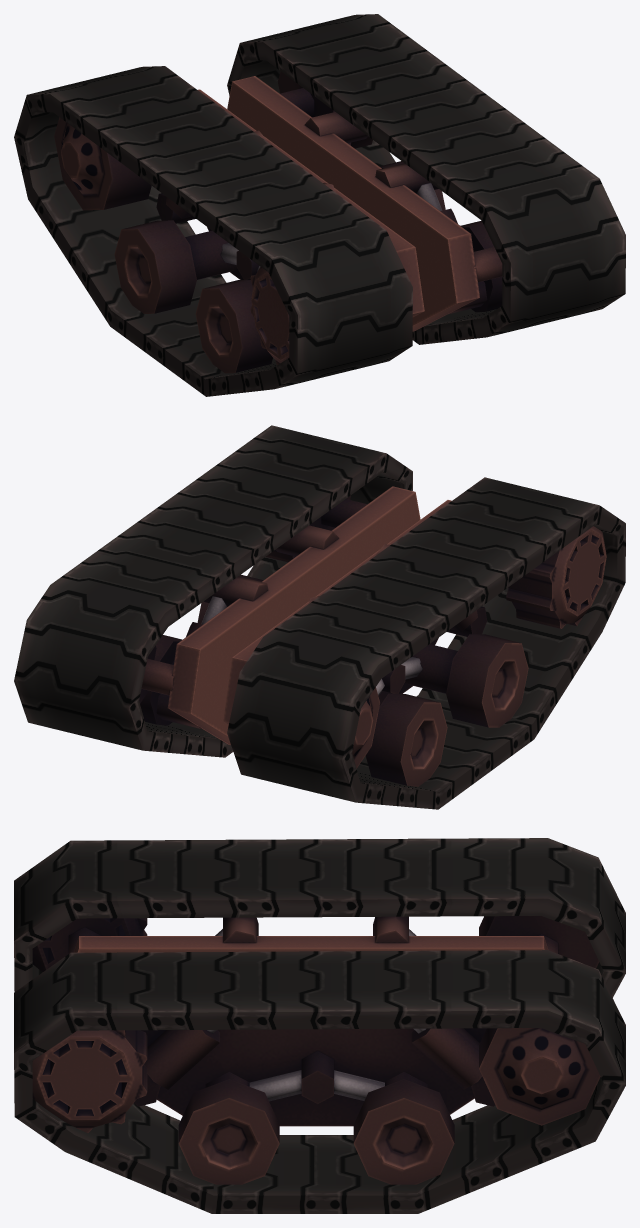
Rendered from Tank_track_v3.FBX.
The picture shows the model from 3 angles, top to bottom: view 1: azimuth 30°, elevation 25°; view 2: azimuth 150°, elevation 25°; view 3: azimuth 270°, elevation 25°; orthographic projection. The views are drawn at different scales.
Parts seen in each view (by area): view 1: Tank_track_v1_caterpillar_R, Tank_track_v1_caterpillar_L, Tank_track_v3_L, Tank_track_v3_R, Tank_track_v3_S2_R, Tank_track_v3_S1_R, Tank_track_v3_S2_L; view 2: Tank_track_v1_caterpillar_R, Tank_track_v1_caterpillar_L, Tank_track_v3_L, Tank_track_v3_R, Tank_track_v3_S1_R, Tank_track_v3_S2_R; view 3: Tank_track_v1_caterpillar_L, Tank_track_v1_caterpillar_R, Tank_track_v3_L, Tank_track_v3_S1_L, Tank_track_v3_R, Tank_track_v3_S2_L, Tank_track_v3_S2_R, Tank_track_v3_S1_R.
Part boxes in pixels (<box>): Tank_track_v1_caterpillar_R: <box>14,66,412,396</box>; Tank_track_v1_caterpillar_L: <box>227,14,625,344</box>; Tank_track_v3_L: <box>227,76,502,331</box>; Tank_track_v3_R: <box>114,89,424,373</box>; Tank_track_v3_S2_R: <box>54,117,151,210</box>; Tank_track_v3_S1_R: <box>250,266,289,365</box>; Tank_track_v3_S2_L: <box>277,71,372,148</box>; Tank_track_v1_caterpillar_R: <box>227,477,625,809</box>; Tank_track_v1_caterpillar_L: <box>14,425,412,757</box>; Tank_track_v3_L: <box>140,486,420,744</box>; Tank_track_v3_R: <box>223,500,528,786</box>; Tank_track_v3_S1_R: <box>506,526,606,628</box>; Tank_track_v3_S2_R: <box>352,687,379,768</box>; Tank_track_v1_caterpillar_L: <box>14,950,625,1213</box>; Tank_track_v1_caterpillar_R: <box>14,838,625,997</box>; Tank_track_v3_L: <box>134,1028,495,1184</box>; Tank_track_v3_S1_L: <box>32,1030,147,1132</box>; Tank_track_v3_R: <box>68,916,557,953</box>; Tank_track_v3_S2_L: <box>479,1028,600,1125</box>; Tank_track_v3_S2_R: <box>479,916,599,968</box>; Tank_track_v3_S1_R: <box>32,918,147,971</box>.
Bounding box in the file's own units: 2.39 × 1.31 × 3.59.
